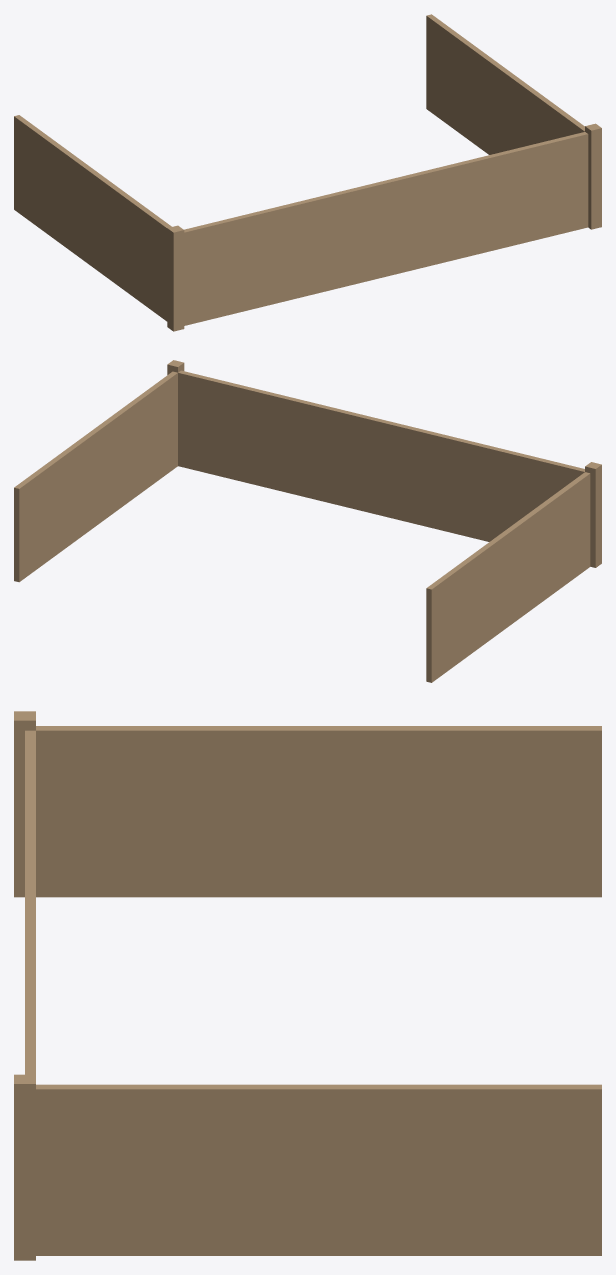
Rendered from SM_Fence_Rectangle.fbx.
3 views of the same model, one above another, from view 1: azimuth 30°, elevation 25°; view 2: azimuth 150°, elevation 25°; view 3: azimuth 270°, elevation 25° (orthographic). The views are drawn at different scales.
Parts seen in each view (by area): view 1: SM_Fence_Rectangle; view 2: SM_Fence_Rectangle; view 3: SM_Fence_Rectangle.
Part boxes in pixels (x1,y1,x2,y2): SM_Fence_Rectangle: [14, 14, 601, 331]; SM_Fence_Rectangle: [14, 360, 601, 682]; SM_Fence_Rectangle: [14, 711, 601, 1260].
Size of the model in its own units: 864 by 191 by 576.
